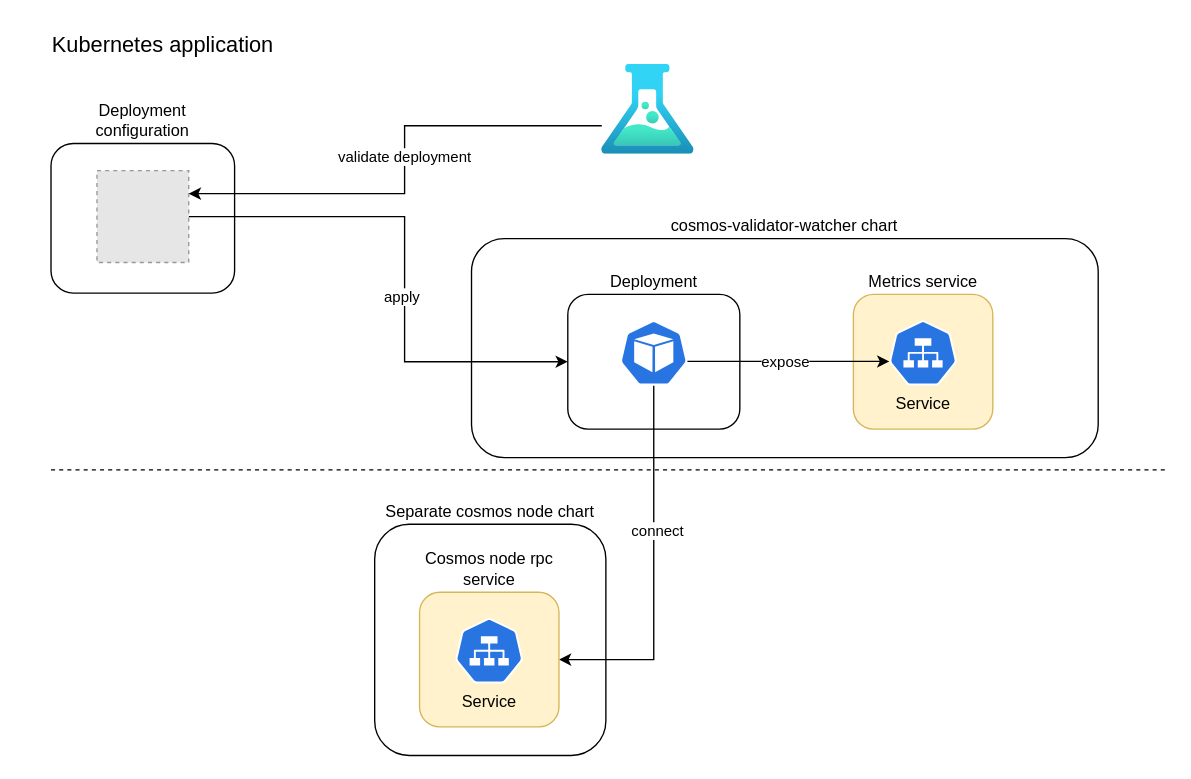
Some shapes in this 1191 by 779 pixel diagram are drawn without their labels. Grey dashed boxes stand in for pictures. The centre of each missing label's shape, as x and y in pixels:
Pod: the point at 653,352
Unit test: the point at 647,109
